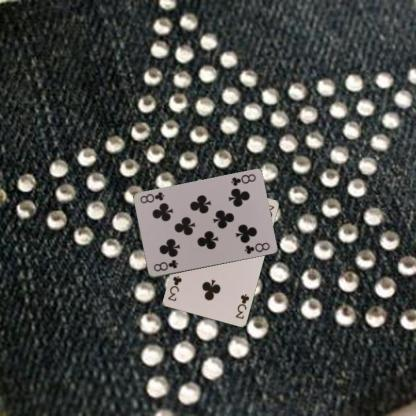3c: (232, 291, 250, 320)
8c: (150, 257, 180, 273), (228, 172, 257, 188)
